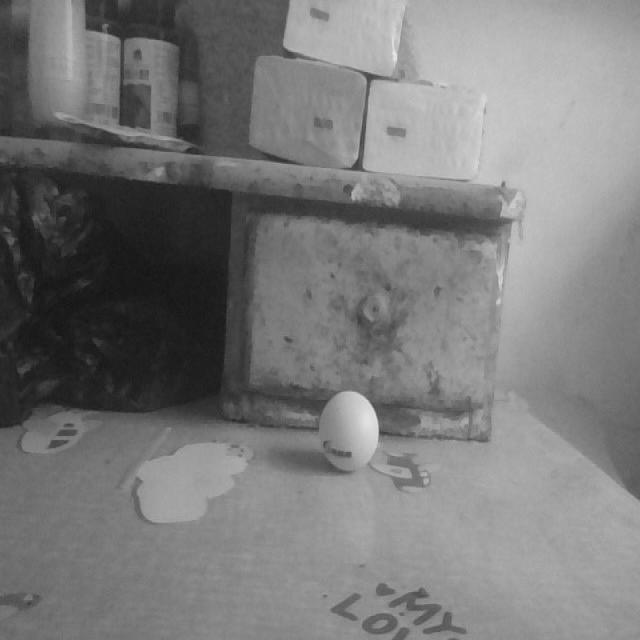ping-pong-ball: (318, 392, 380, 470)
